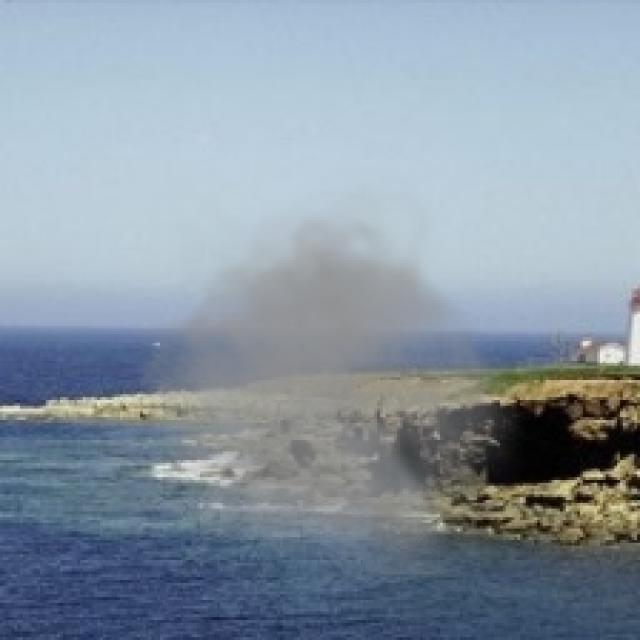smoke: (120, 169, 534, 574)
